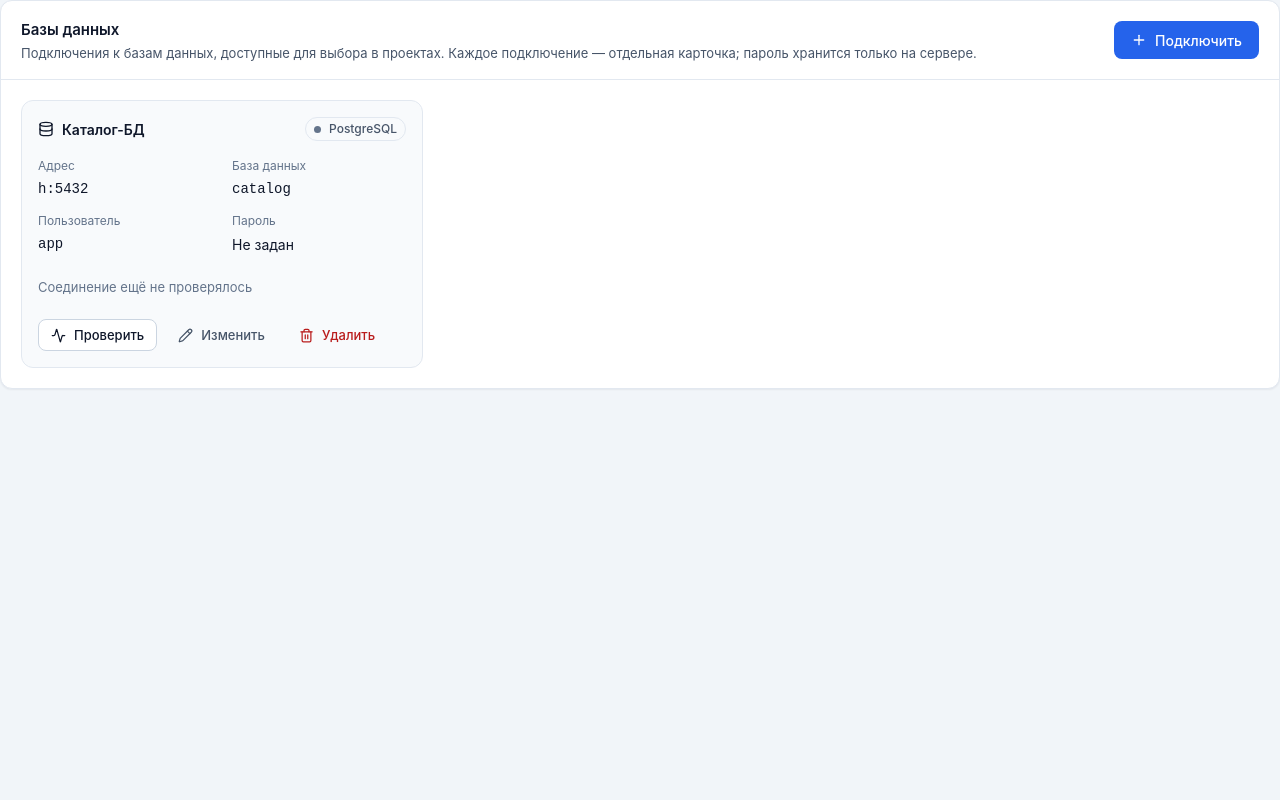
Test: DatabaseConnectionsSection — единый экран подключений › открывает форму подключения по кнопке «Подключить»
This screenshot has width=1280, height=800.
Expected: the text "Каталог-БД" is shown, [38,119,145,140]
What coordinates should you click on to do the following:
click the button "Подключить"
I would click on:
 (1187, 40)
Its box is [1114,21,1259,59].
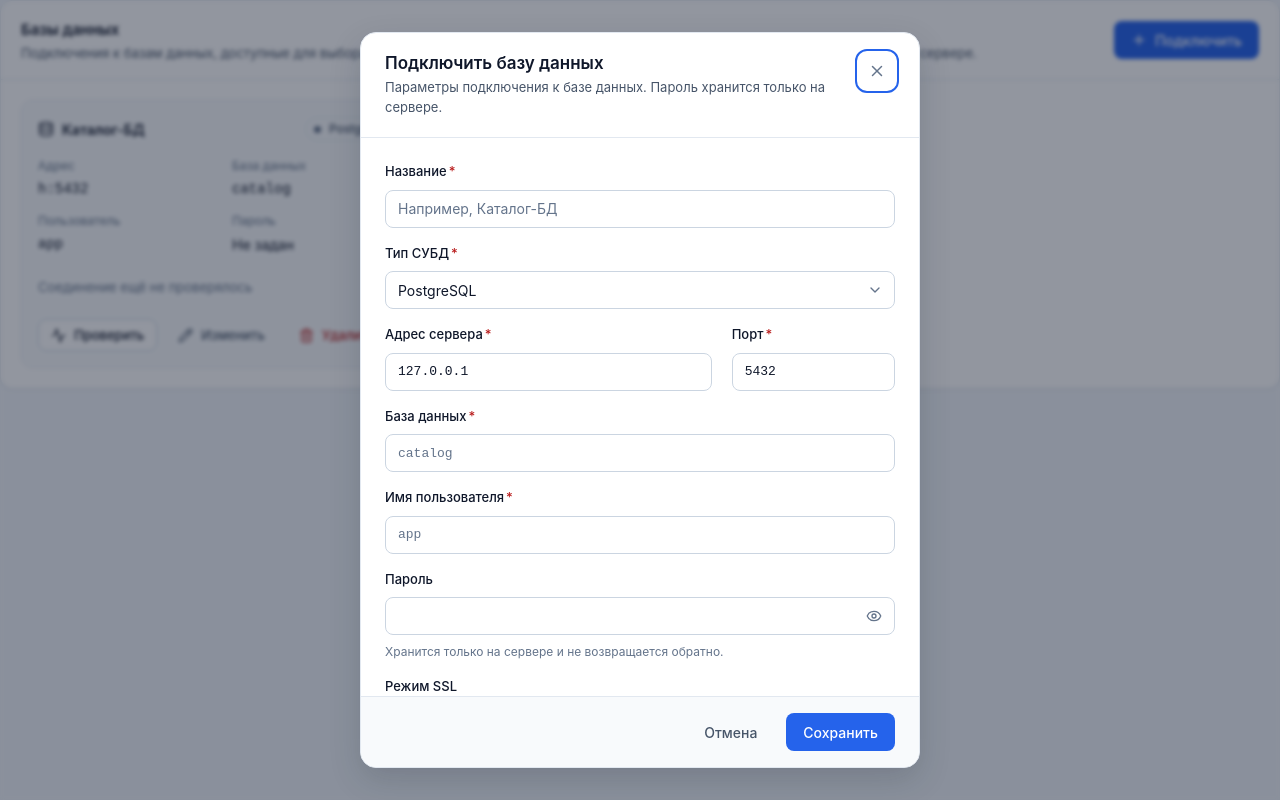
Result: the dialog shows "Подключить базу данных" at [385,53,604,73]
